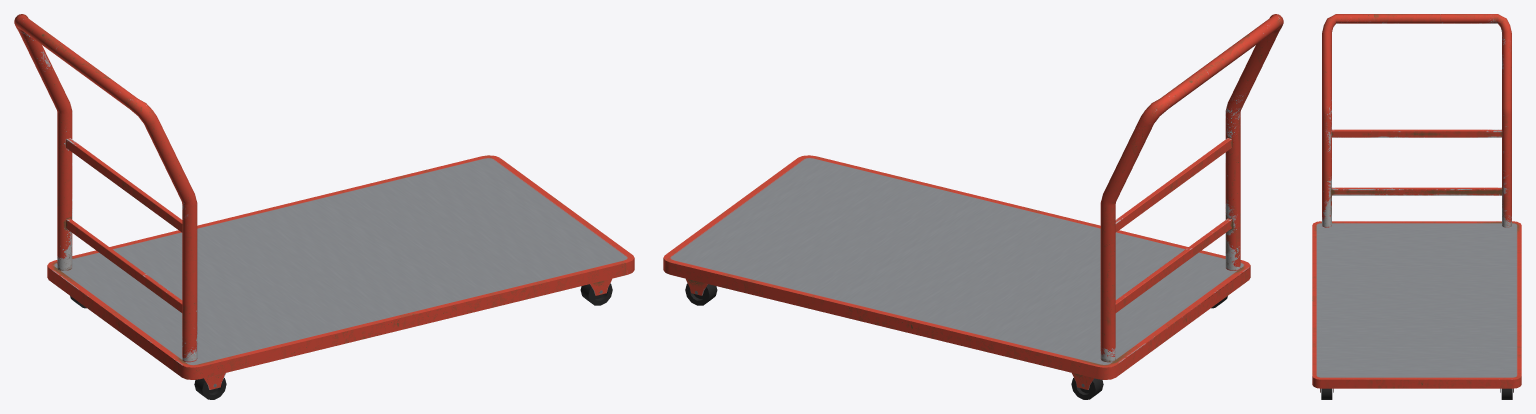
The model's file is Platform_Trolley.fbx.
3 renders of one model, left to right at view 1: azimuth 30°, elevation 25°; view 2: azimuth 150°, elevation 25°; view 3: azimuth 270°, elevation 25°, orthographic. The views are drawn at different scales.
Parts seen in each view (by area): view 1: Platform_Trolley; view 2: Platform_Trolley; view 3: Platform_Trolley.
Part boxes in pixels (box(x1,y1,x2,y2)): Platform_Trolley: box(14, 14, 634, 399); Platform_Trolley: box(663, 14, 1283, 399); Platform_Trolley: box(1312, 14, 1521, 399).
Size of the model in its own units: 162 by 97.69 by 82.66.
1 material, 1 textured.
